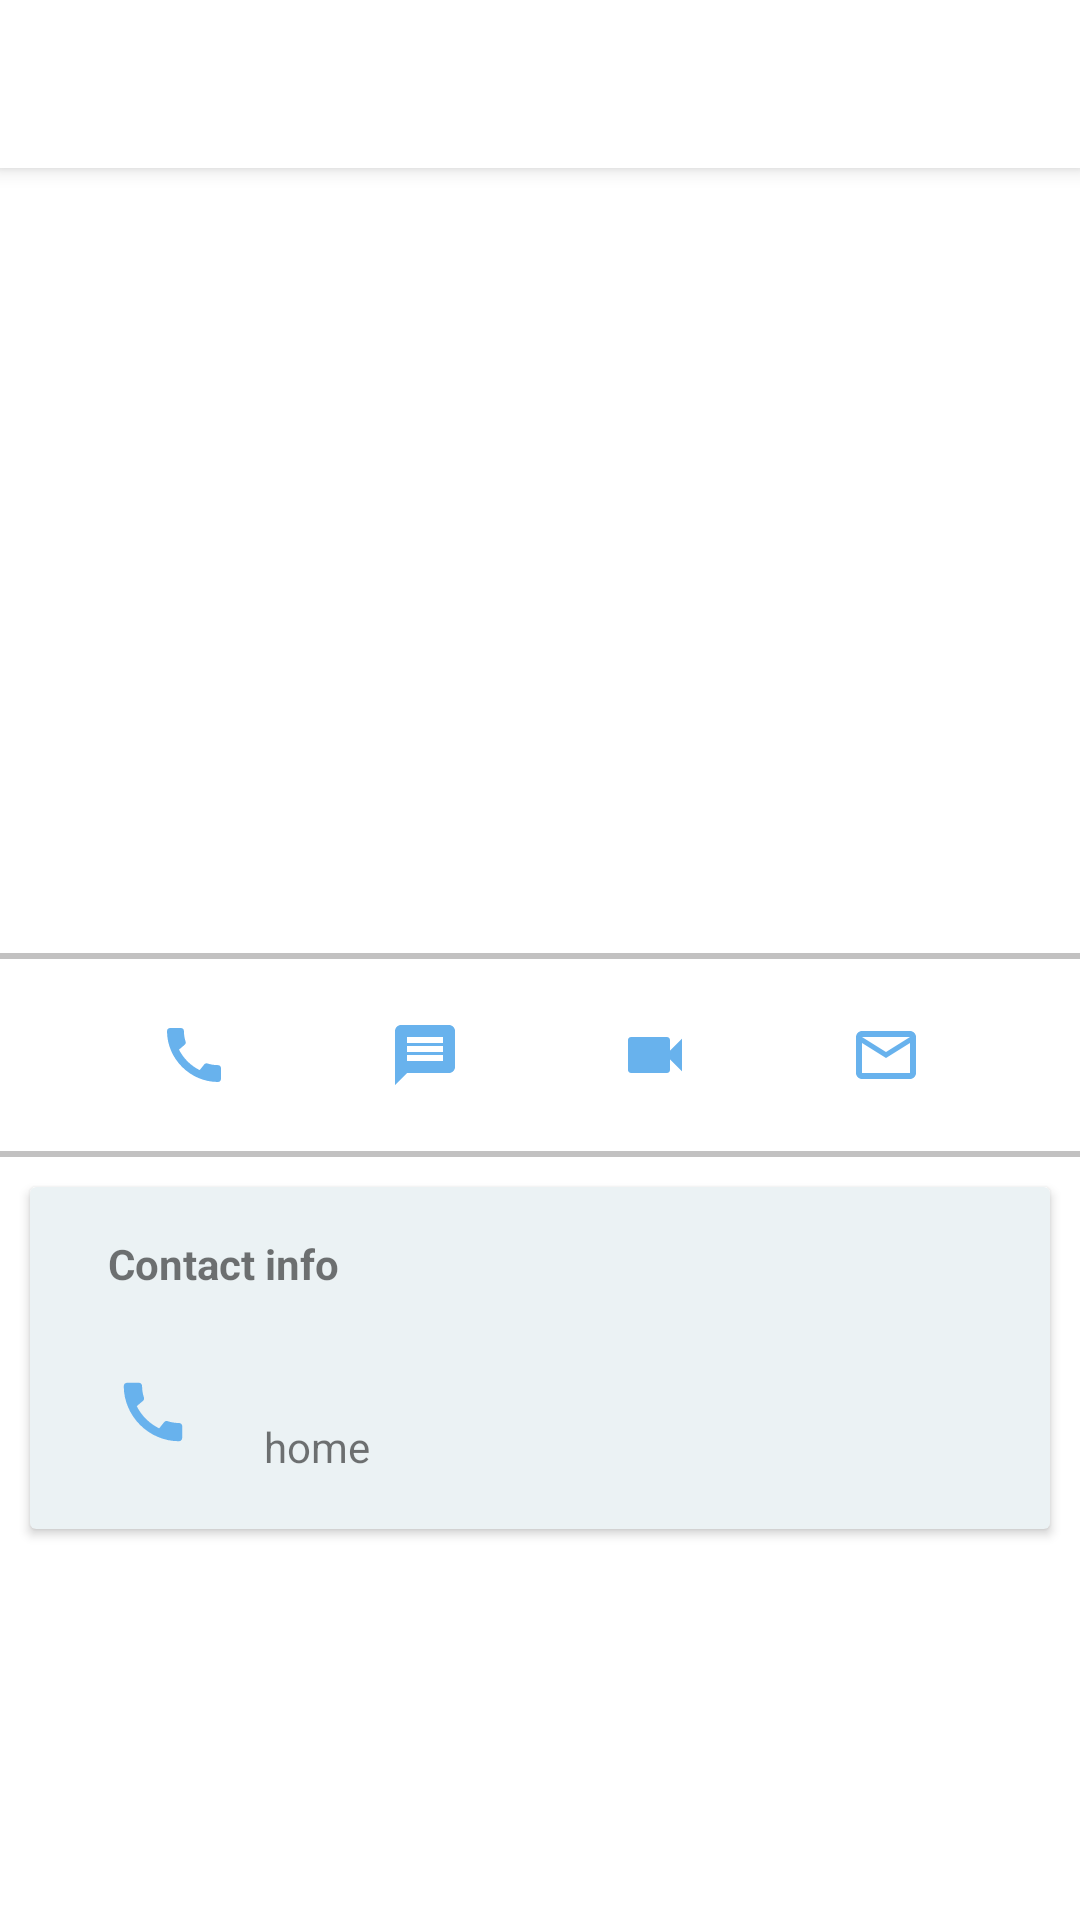

Icon click points for this 1080x1920 phone screenshot, format point (x, y):
call: point (194, 1055), point (153, 1412)
mail: point (886, 1055)
message: point (425, 1055)
videocall: point (655, 1055)
